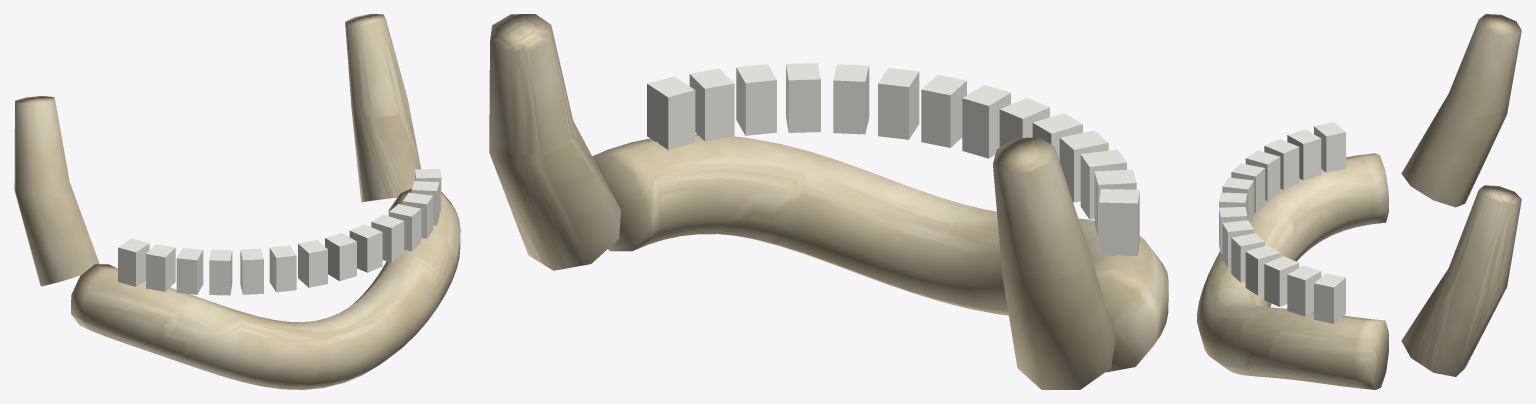
Rendered from 骸骨の下顎_jawbone.glb.
3 renders of one model, left to right at view 1: azimuth 30°, elevation 25°; view 2: azimuth 150°, elevation 25°; view 3: azimuth 270°, elevation 25°, orthographic. The views are drawn at different scales.
Visible parts, largest first — view 1: jawbone; view 2: jawbone; view 3: jawbone.
Boxes of the visible parts, x1,y1,x2,y2 form: jawbone: [14, 14, 460, 389]; jawbone: [489, 14, 1168, 389]; jawbone: [1197, 14, 1521, 389].
Size of the model in its own units: 0.106 by 0.0609 by 0.0728.
2 materials, 1 textured.
